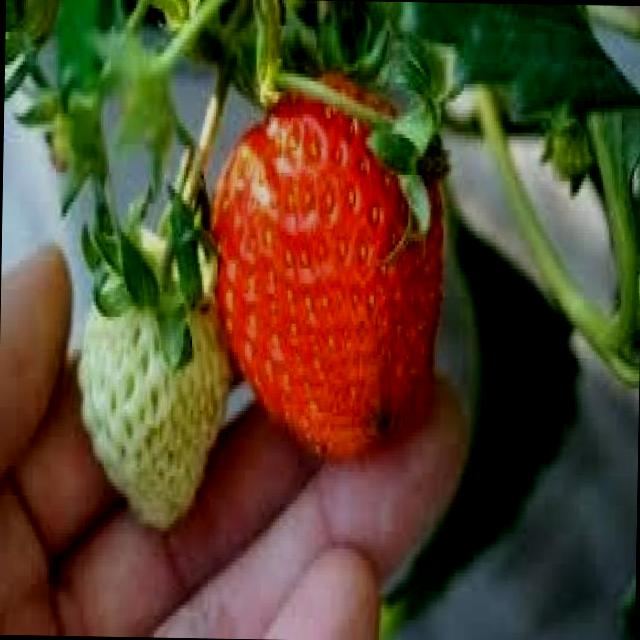Strawberry: (205, 87, 448, 466), (75, 272, 234, 531)
